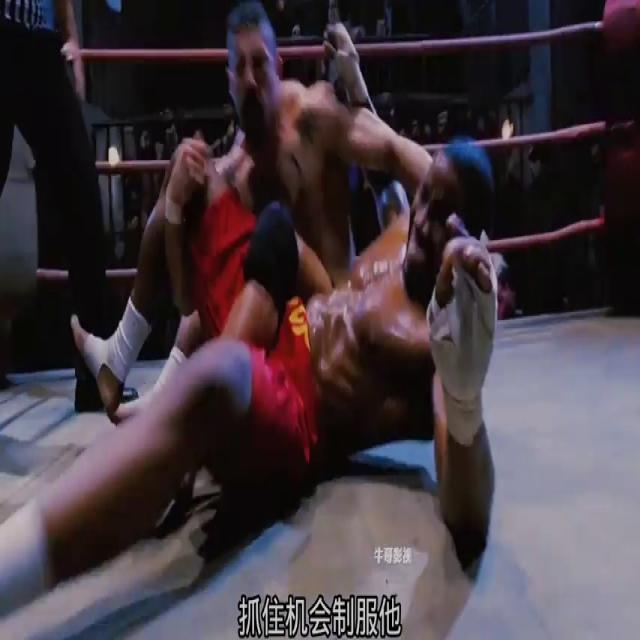fight: (0, 1, 508, 639)
